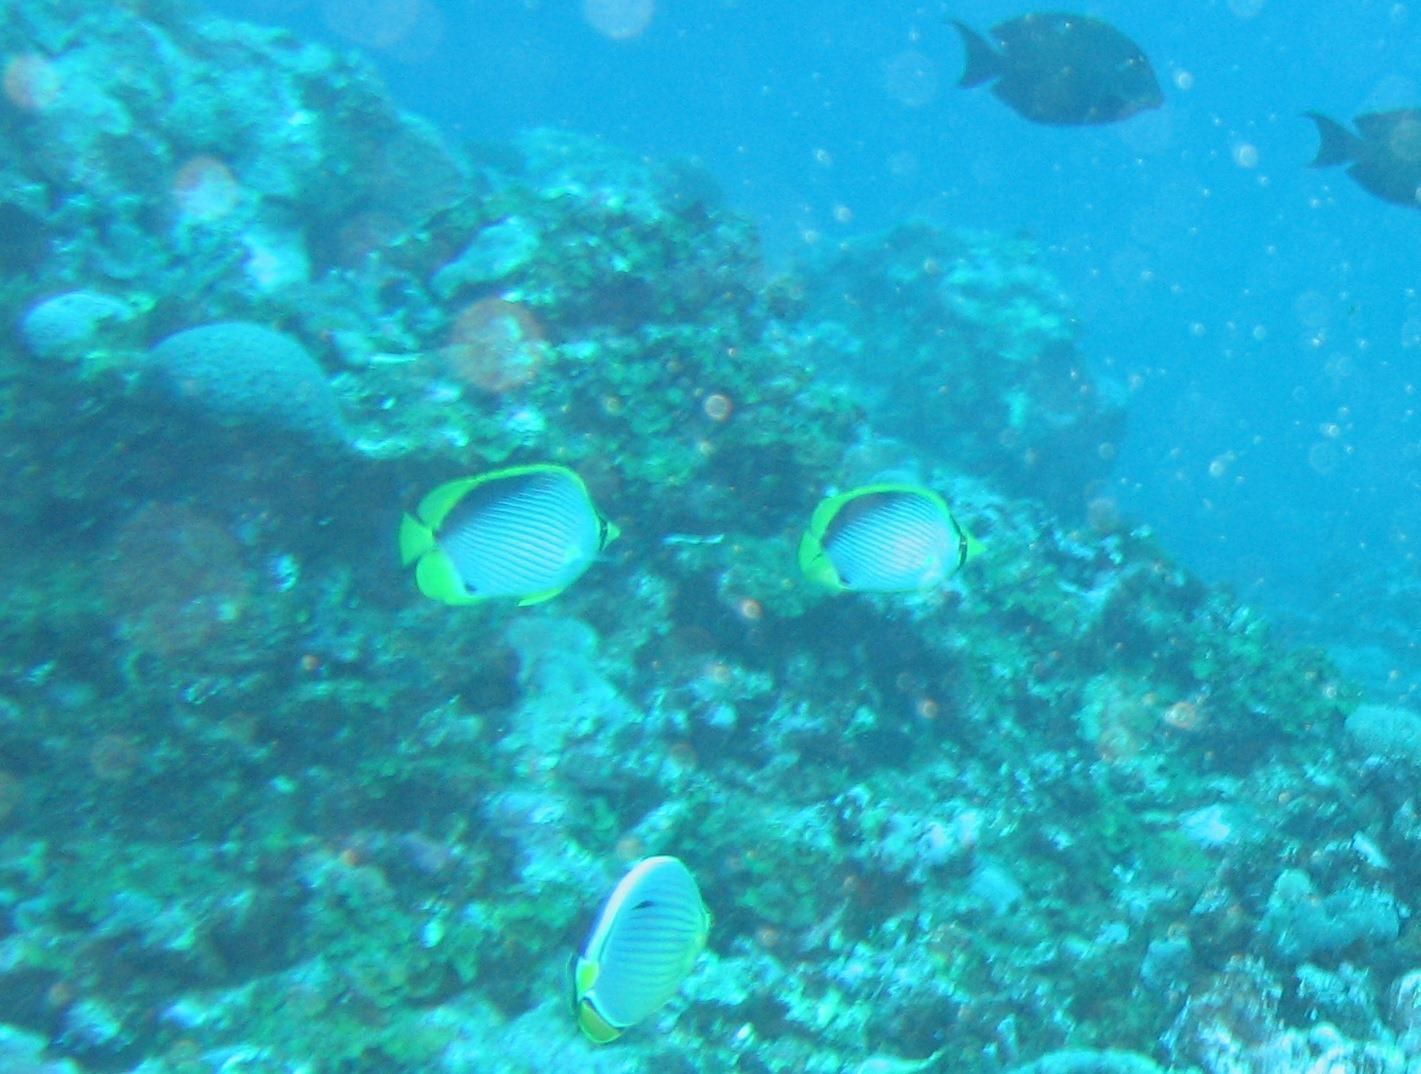Fish: (364, 452, 690, 668), (783, 463, 1034, 623)
